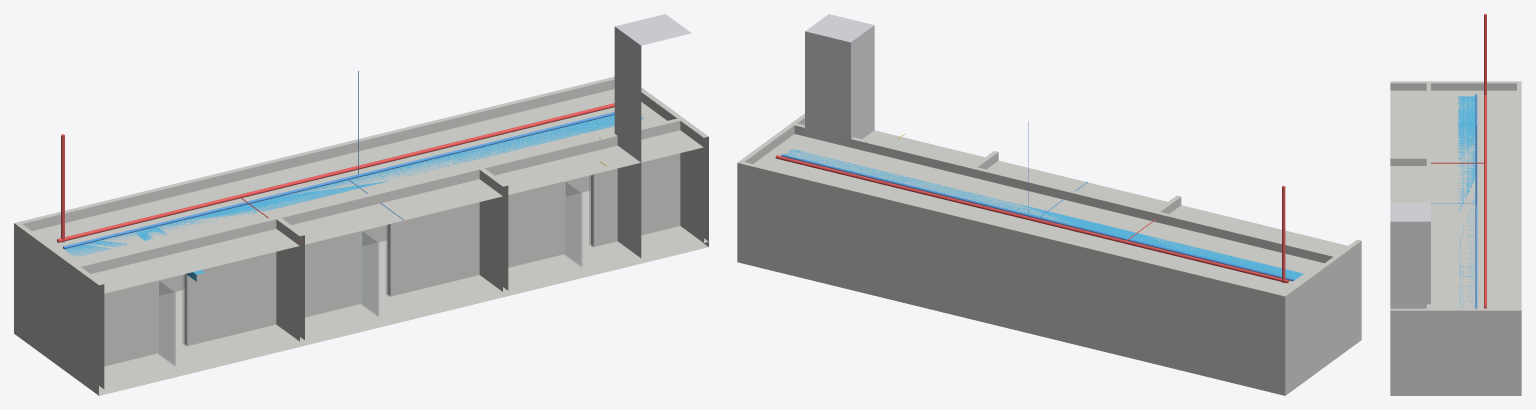
File: L1-103-CORRIDOR.glb
The picture shows the model from 3 angles, left to right: view 1: azimuth 30°, elevation 25°; view 2: azimuth 150°, elevation 25°; view 3: azimuth 270°, elevation 25°; orthographic projection. The views are drawn at different scales.
Visible parts, largest first — view 1: ceiling_2, floor, wall_7, wall_8, wall, equipment_ELEV_1, wall_3, wall_11, wall_2, duct_3, wall_10, wall_4 (+12 smaller); view 2: wall_7, ceiling_2, equipment_ELEV_1, wall_3, duct_3, floor, wall_6, pipe_7, ceiling_3, ceiling, pipe_6, wall_8 (+7 smaller); view 3: ceiling_2, wall_12, equipment_ELEV_1, wall_13, ceiling, duct_3, wall_7, ceiling_3, wall_3, pipe_7, pipe_6, floor (+8 smaller).
Boxes of the visible parts, x1=… form: ceiling_2: x1=32, y1=89, x2=667, y2=270; floor: x1=14, y1=190, x2=708, y2=395; wall_7: x1=14, y1=76, x2=614, y2=328; wall_8: x1=358, y1=166, x2=483, y2=296; wall: x1=154, y1=216, x2=280, y2=345; equipment_ELEV_1: x1=614, y1=14, x2=691, y2=257; wall_3: x1=14, y1=222, x2=77, y2=372; wall_11: x1=561, y1=117, x2=684, y2=246; wall_2: x1=72, y1=246, x2=156, y2=372; duct_3: x1=64, y1=115, x2=643, y2=257; wall_10: x1=479, y1=147, x2=563, y2=267; wall_4: x1=279, y1=196, x2=360, y2=317; wall_7: x1=737, y1=162, x2=1287, y2=390; ceiling_2: x1=753, y1=134, x2=1323, y2=293; equipment_ELEV_1: x1=805, y1=14, x2=874, y2=147; wall_3: x1=1280, y1=257, x2=1337, y2=390; duct_3: x1=785, y1=149, x2=1303, y2=280; floor: x1=737, y1=257, x2=1361, y2=395; wall_6: x1=1334, y1=239, x2=1361, y2=351; pipe_7: x1=775, y1=155, x2=1288, y2=283; ceiling_3: x1=986, y1=160, x2=1167, y2=210; ceiling: x1=1169, y1=205, x2=1347, y2=254; pipe_6: x1=781, y1=154, x2=1293, y2=281; wall_8: x1=970, y1=166, x2=1084, y2=203; ceiling_2: x1=1399, y1=90, x2=1516, y2=308; wall_12: x1=1426, y1=308, x2=1520, y2=391; equipment_ELEV_1: x1=1390, y1=202, x2=1430, y2=308; wall_13: x1=1390, y1=308, x2=1430, y2=391; ceiling: x1=1390, y1=90, x2=1426, y2=156; duct_3: x1=1458, y1=96, x2=1475, y2=307; wall_7: x1=1517, y1=81, x2=1521, y2=391; ceiling_3: x1=1390, y1=166, x2=1426, y2=202; wall_3: x1=1427, y1=81, x2=1521, y2=90; pipe_7: x1=1484, y1=94, x2=1486, y2=308; pipe_6: x1=1475, y1=94, x2=1477, y2=308; floor: x1=1390, y1=392, x2=1521, y2=395.
Size of the model in its own units: 18.29 by 6.25 by 4.42.
